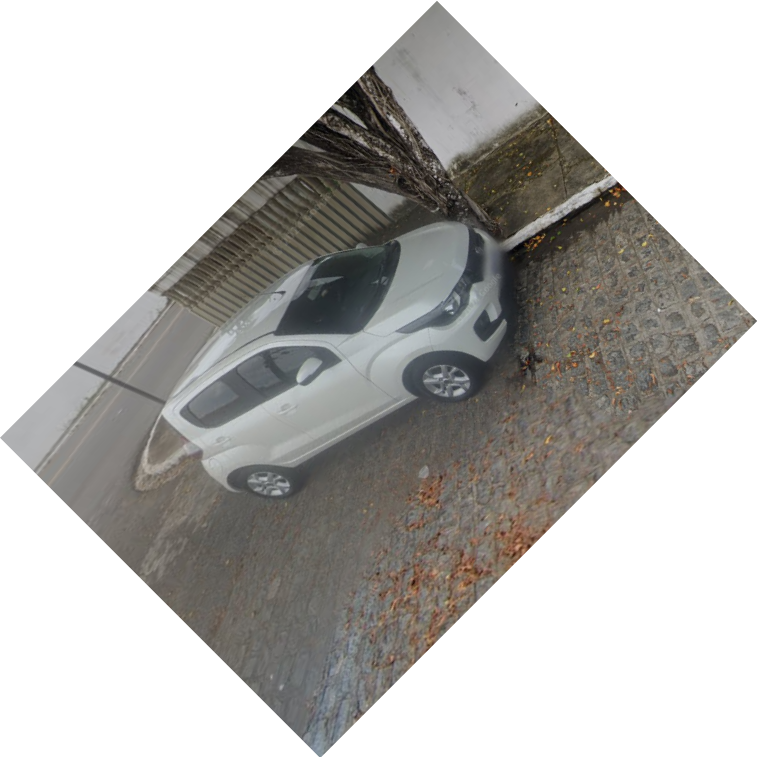car: (161, 220, 509, 503)
